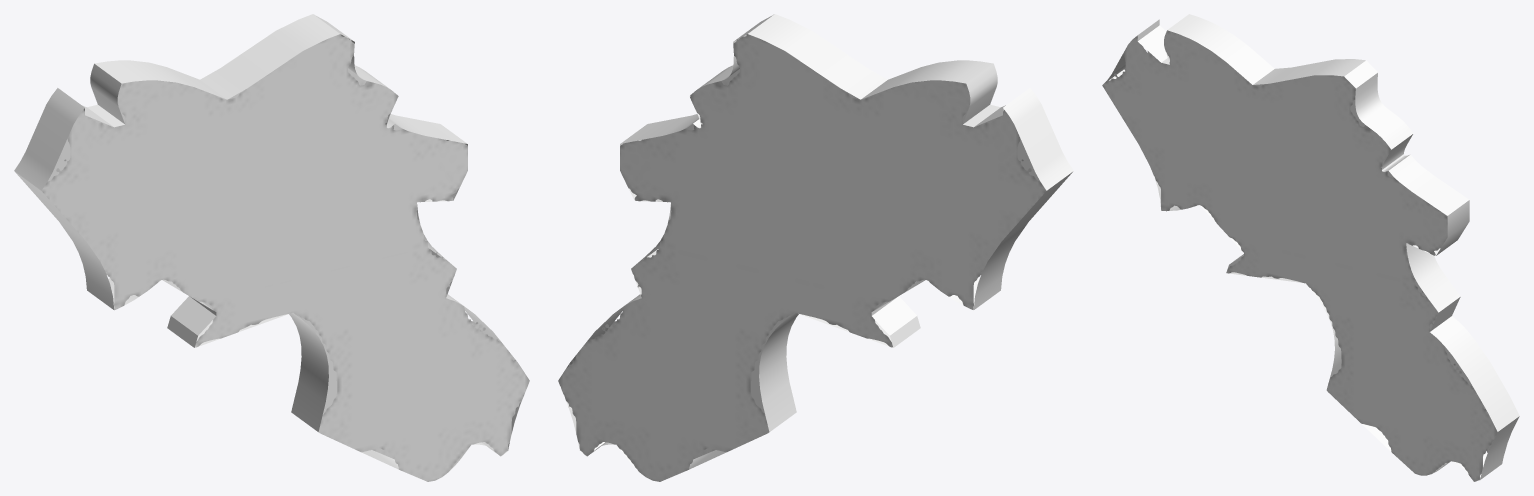
File: Campania.OBJ
3 views of the same model, side by side, from view 1: azimuth 30°, elevation 25°; view 2: azimuth 150°, elevation 25°; view 3: azimuth 330°, elevation 25° (orthographic). The views are drawn at different scales.
Bounding box in the file's own units: 134 × 124 × 13.
3 materials, 3 textured.
